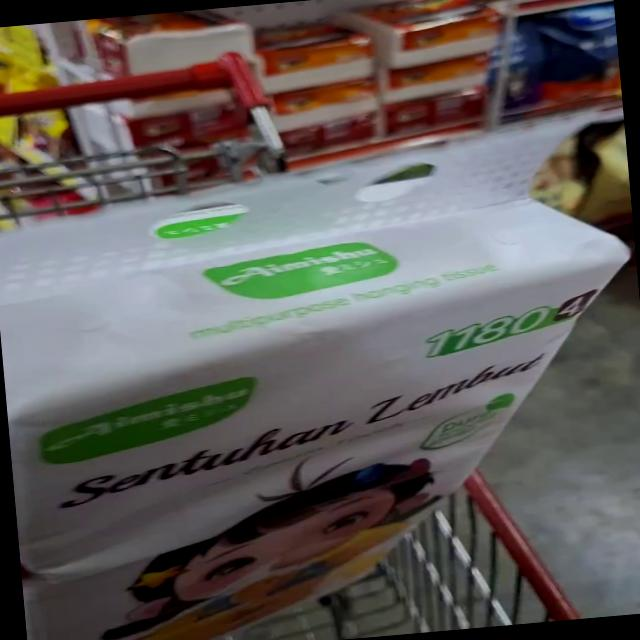Tisu: (0, 152, 640, 469), (8, 391, 513, 640)
